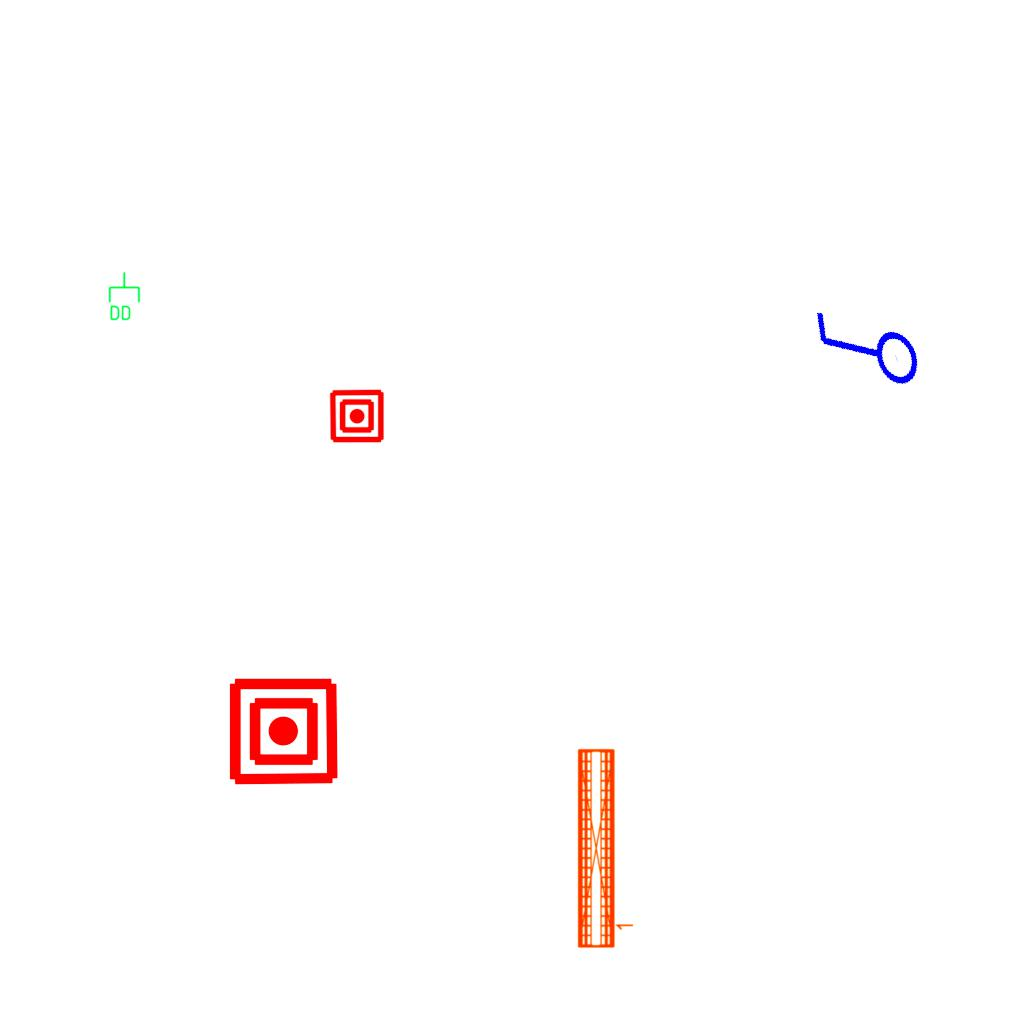Ausschalter: (800, 281, 932, 421)
Buero_Pendelleuchten_LED: (573, 745, 638, 951)
Datenanschluss_zweifach: (107, 271, 141, 322)
NAM-Nichtautomatischer_Melder: (227, 675, 340, 788), (329, 388, 385, 444)
